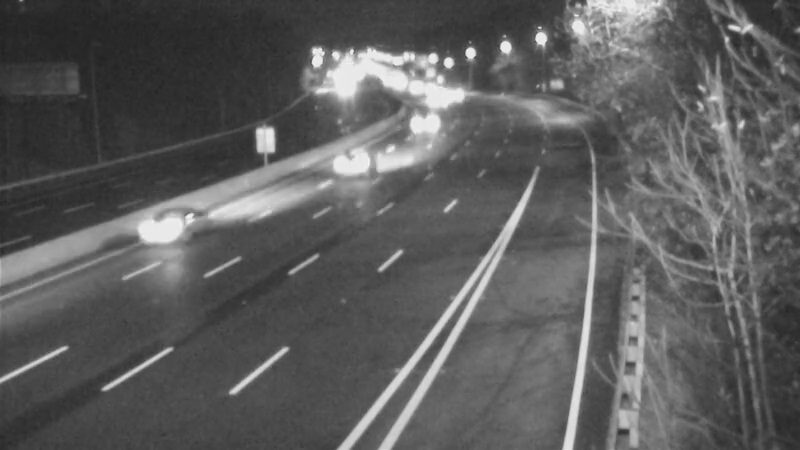vehicle: (314, 120, 394, 200), (141, 174, 221, 254), (412, 75, 462, 125), (400, 94, 450, 144)
